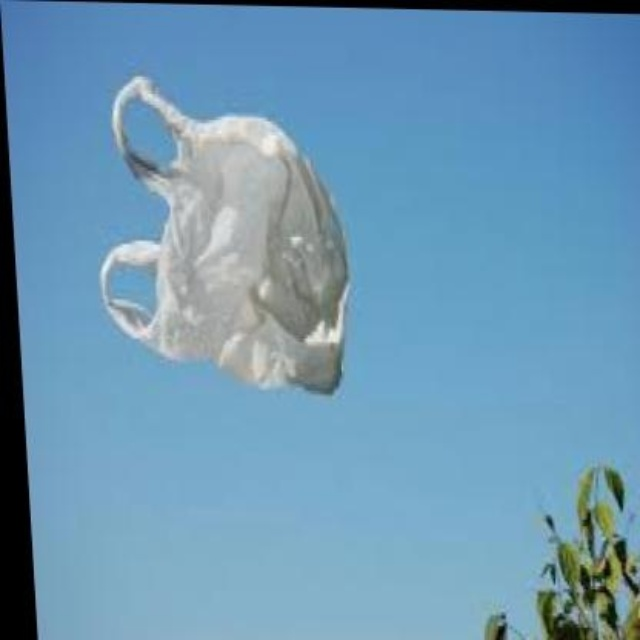trash: (100, 75, 346, 392)
